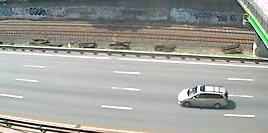car: (175, 82, 232, 112)
